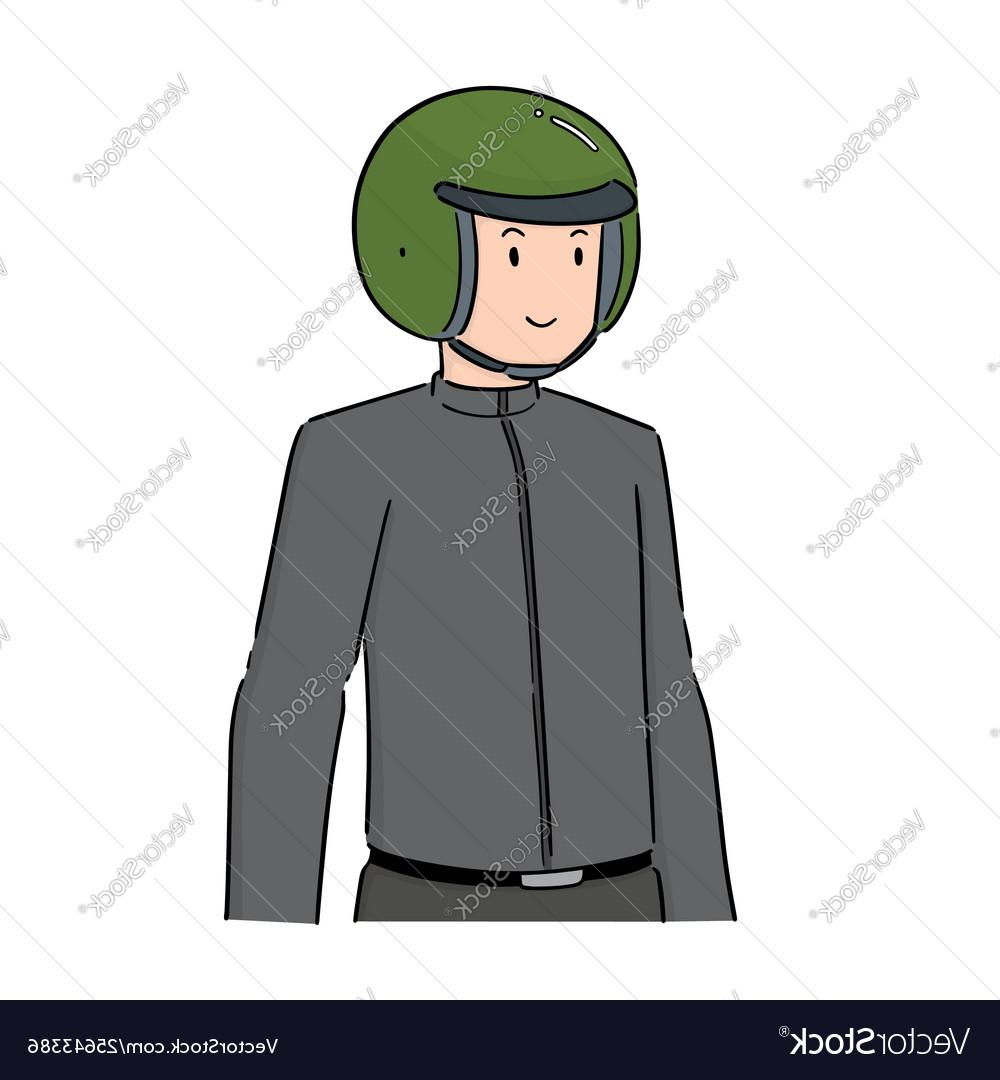Helmet: (347, 88, 640, 372)
